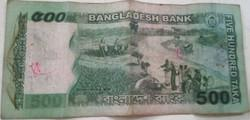500 taka: (8, 4, 244, 110)
